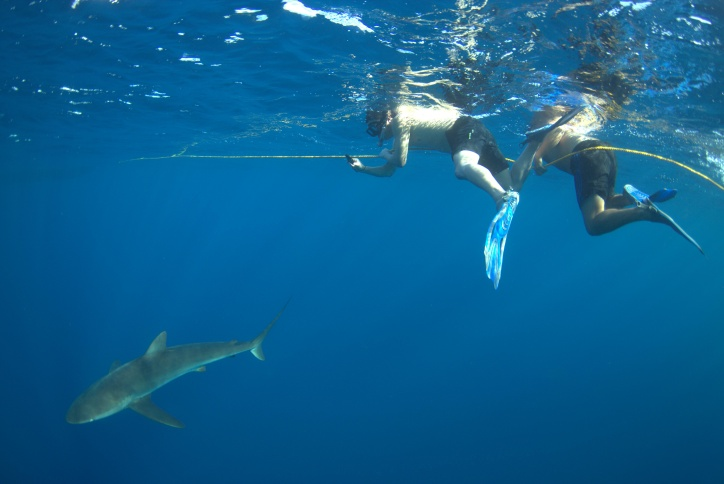Sedoso: (57, 293, 294, 435)
